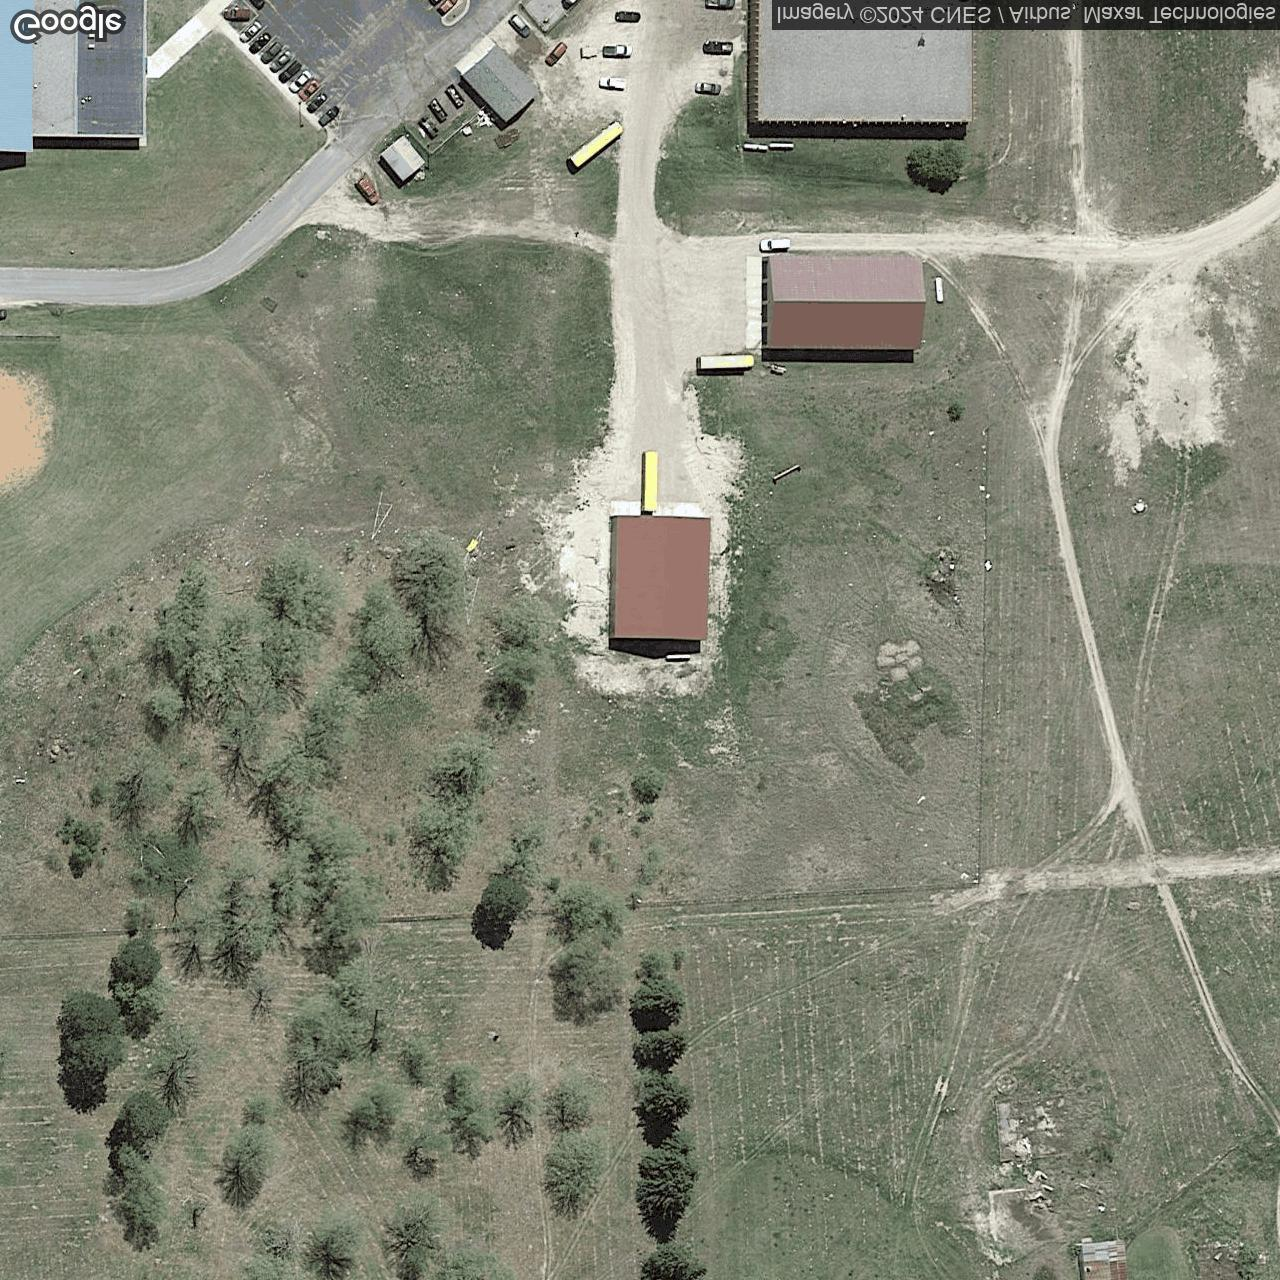Garage: (461, 42, 540, 123), (379, 134, 427, 184)
House: (747, 1, 974, 123), (764, 254, 928, 350), (608, 516, 712, 642)
Other: (0, 1, 147, 152)
Propane: (742, 142, 769, 155), (768, 142, 796, 154), (934, 275, 945, 306), (665, 652, 692, 663)
Trailer: (568, 118, 625, 170), (640, 450, 659, 512), (697, 354, 756, 369)
